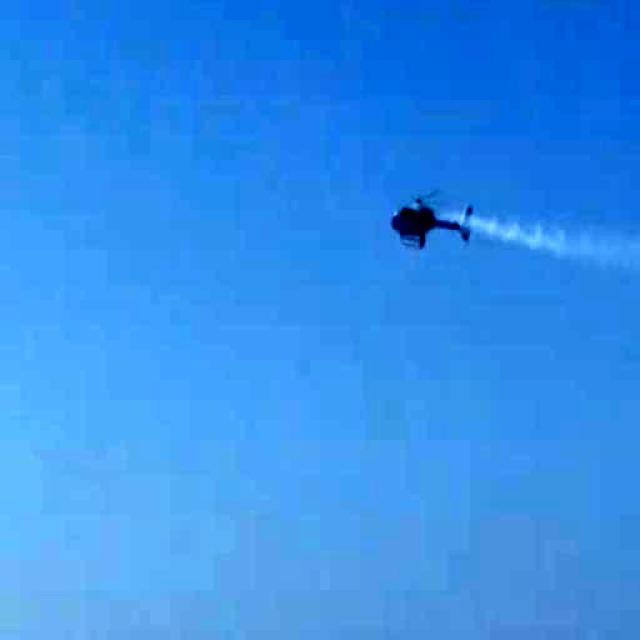drone: (389, 188, 478, 254)
